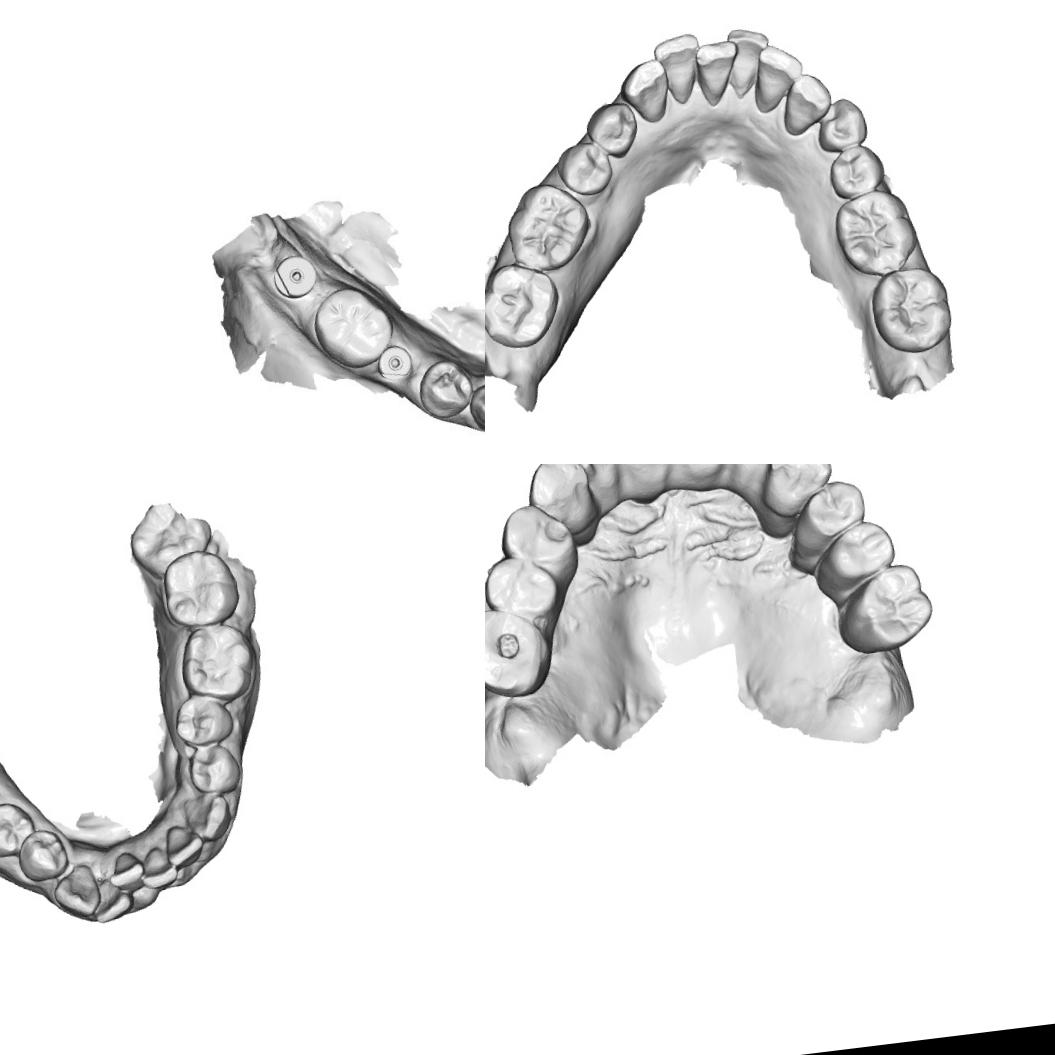canine: (525, 464, 600, 539), (757, 464, 838, 517), (618, 56, 674, 130), (776, 68, 836, 137), (50, 861, 103, 920), (181, 791, 234, 846), (469, 374, 485, 433)
implant: (272, 246, 322, 303), (376, 341, 417, 390)
incisor: (746, 40, 810, 114), (723, 24, 778, 101), (650, 31, 705, 106), (693, 38, 746, 109), (89, 874, 136, 925), (162, 822, 206, 870), (137, 844, 180, 891), (563, 464, 625, 495), (106, 848, 146, 894), (606, 464, 685, 482)
molar: (500, 177, 596, 277), (846, 558, 940, 656), (830, 186, 922, 282), (865, 262, 956, 359), (125, 496, 218, 584), (485, 256, 564, 353), (310, 284, 397, 370), (176, 619, 258, 708), (485, 602, 555, 703), (159, 546, 243, 630)
premolar: (495, 498, 580, 575), (485, 549, 564, 623), (821, 515, 898, 586), (796, 473, 872, 543), (416, 355, 478, 425), (555, 137, 618, 202), (824, 142, 888, 204), (584, 96, 642, 164), (170, 691, 236, 750), (812, 94, 870, 156), (184, 741, 243, 798), (14, 826, 70, 884), (0, 798, 38, 860)
